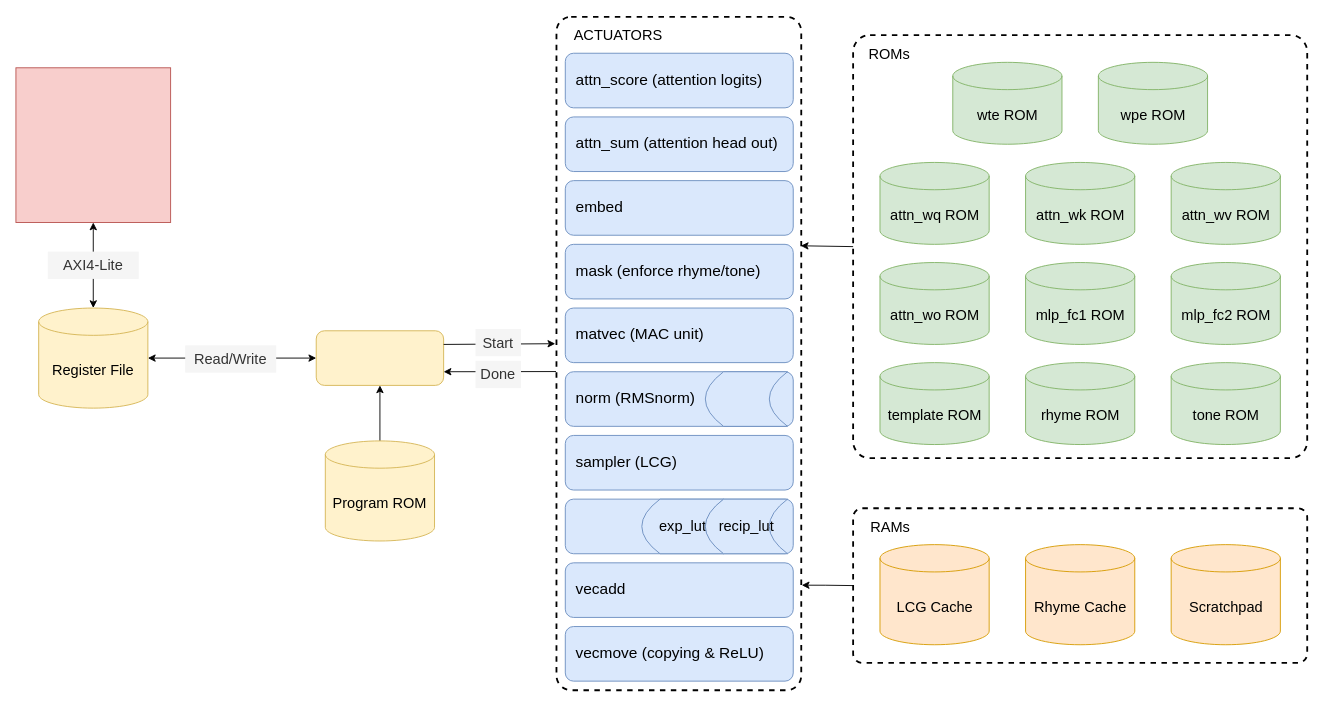
Image size: 1324x706. Some labels were removed from this diagram. The box of each missing label's shape, as (x1, y1, x2, y2) in pixels:
rsqrt_lut: (704, 371, 788, 426)
Sequencer: (315, 330, 444, 385)
softmax: (564, 498, 793, 554)
Zynq PS: (15, 67, 171, 222)
